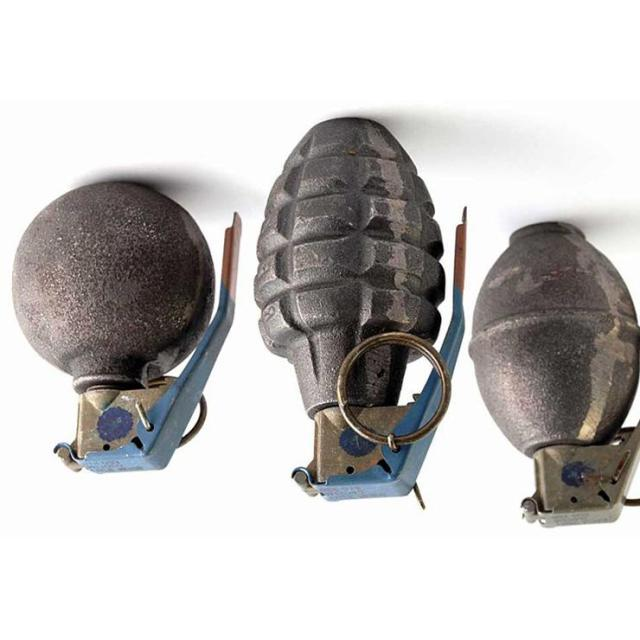grenade: (255, 116, 468, 511), (12, 180, 243, 476), (468, 218, 640, 528)
